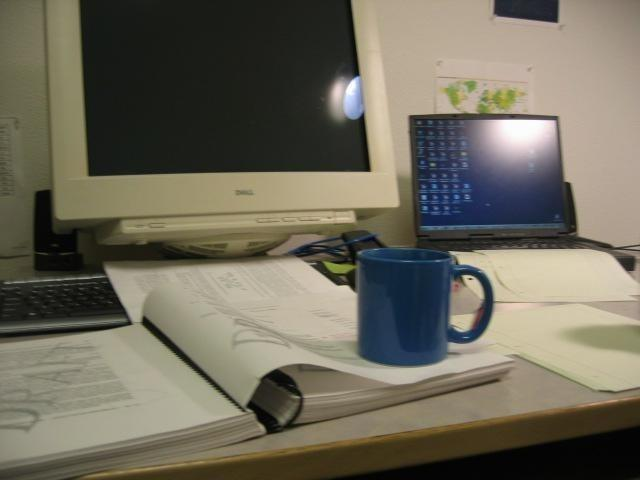cup-handle: (356, 247, 494, 366)
